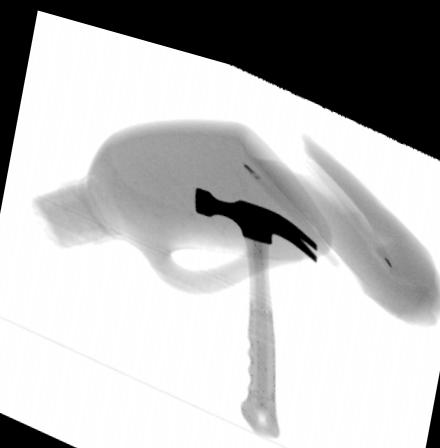Hammer: (192, 171, 318, 424)
